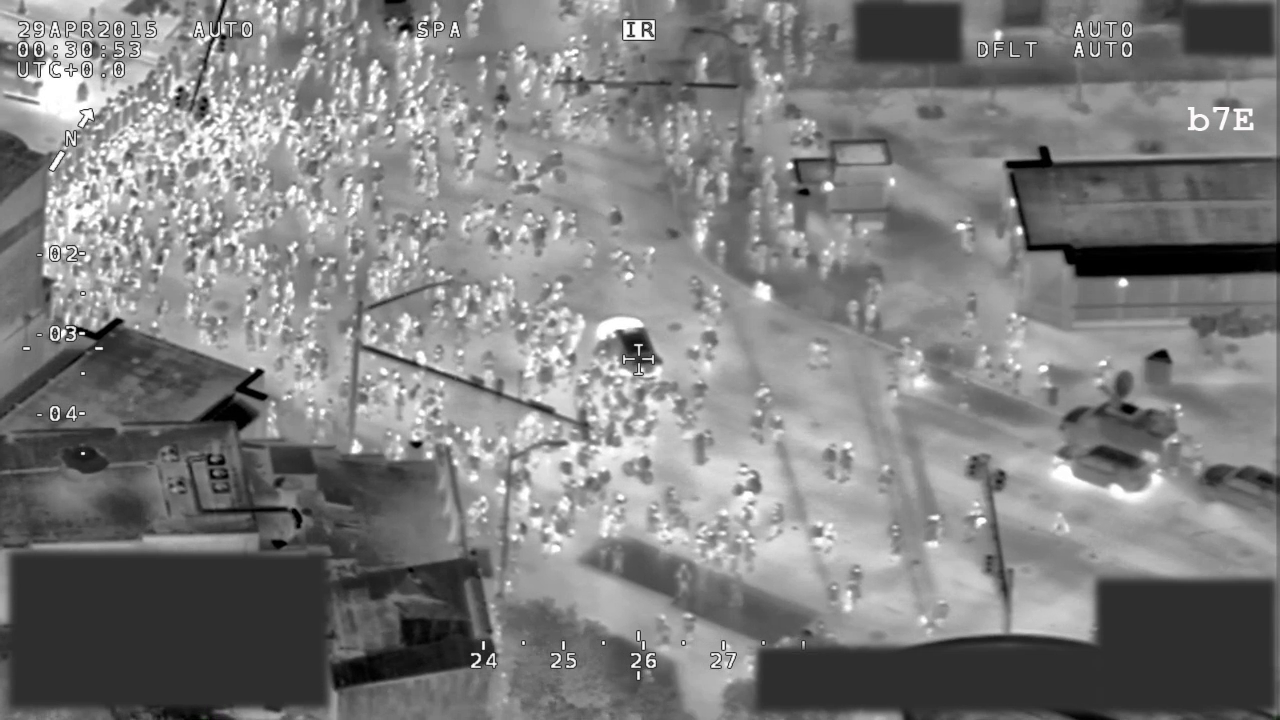vehicle: (1056, 363, 1190, 477), (1046, 436, 1156, 507), (586, 309, 671, 397), (1197, 450, 1280, 519)
